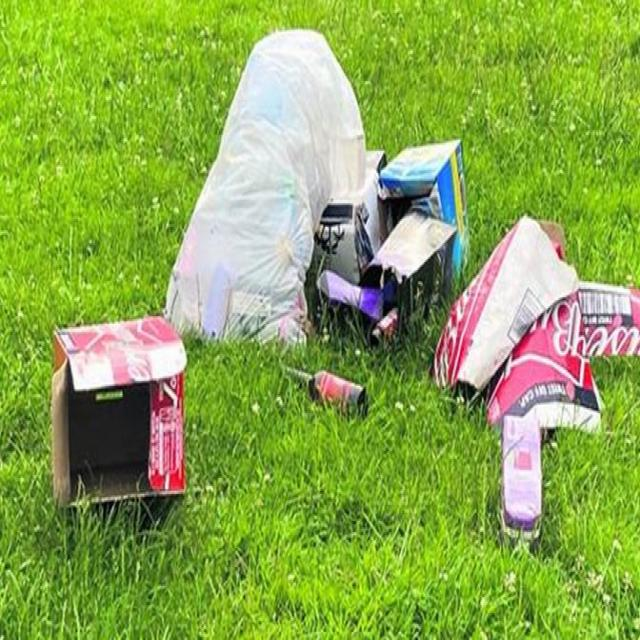dry: (160, 19, 382, 366), (49, 315, 198, 526), (384, 123, 486, 299), (495, 400, 552, 561)
